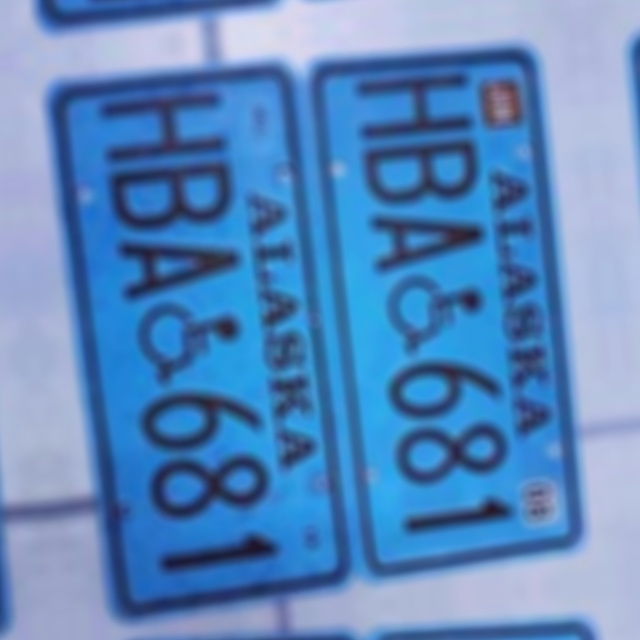ISA: (136, 294, 244, 387), (385, 268, 489, 358)
